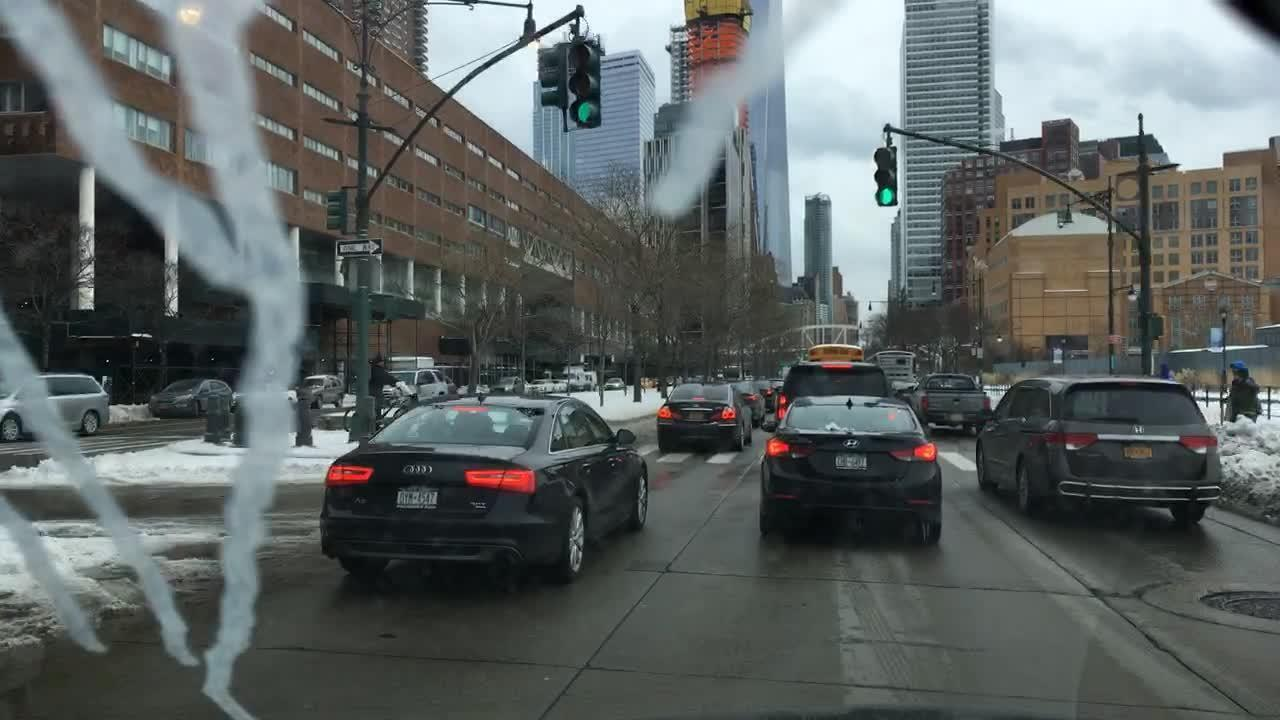Audi: (393, 457, 448, 481)
Hyundai: (839, 434, 872, 452)
Toyota: (1133, 424, 1146, 437)
